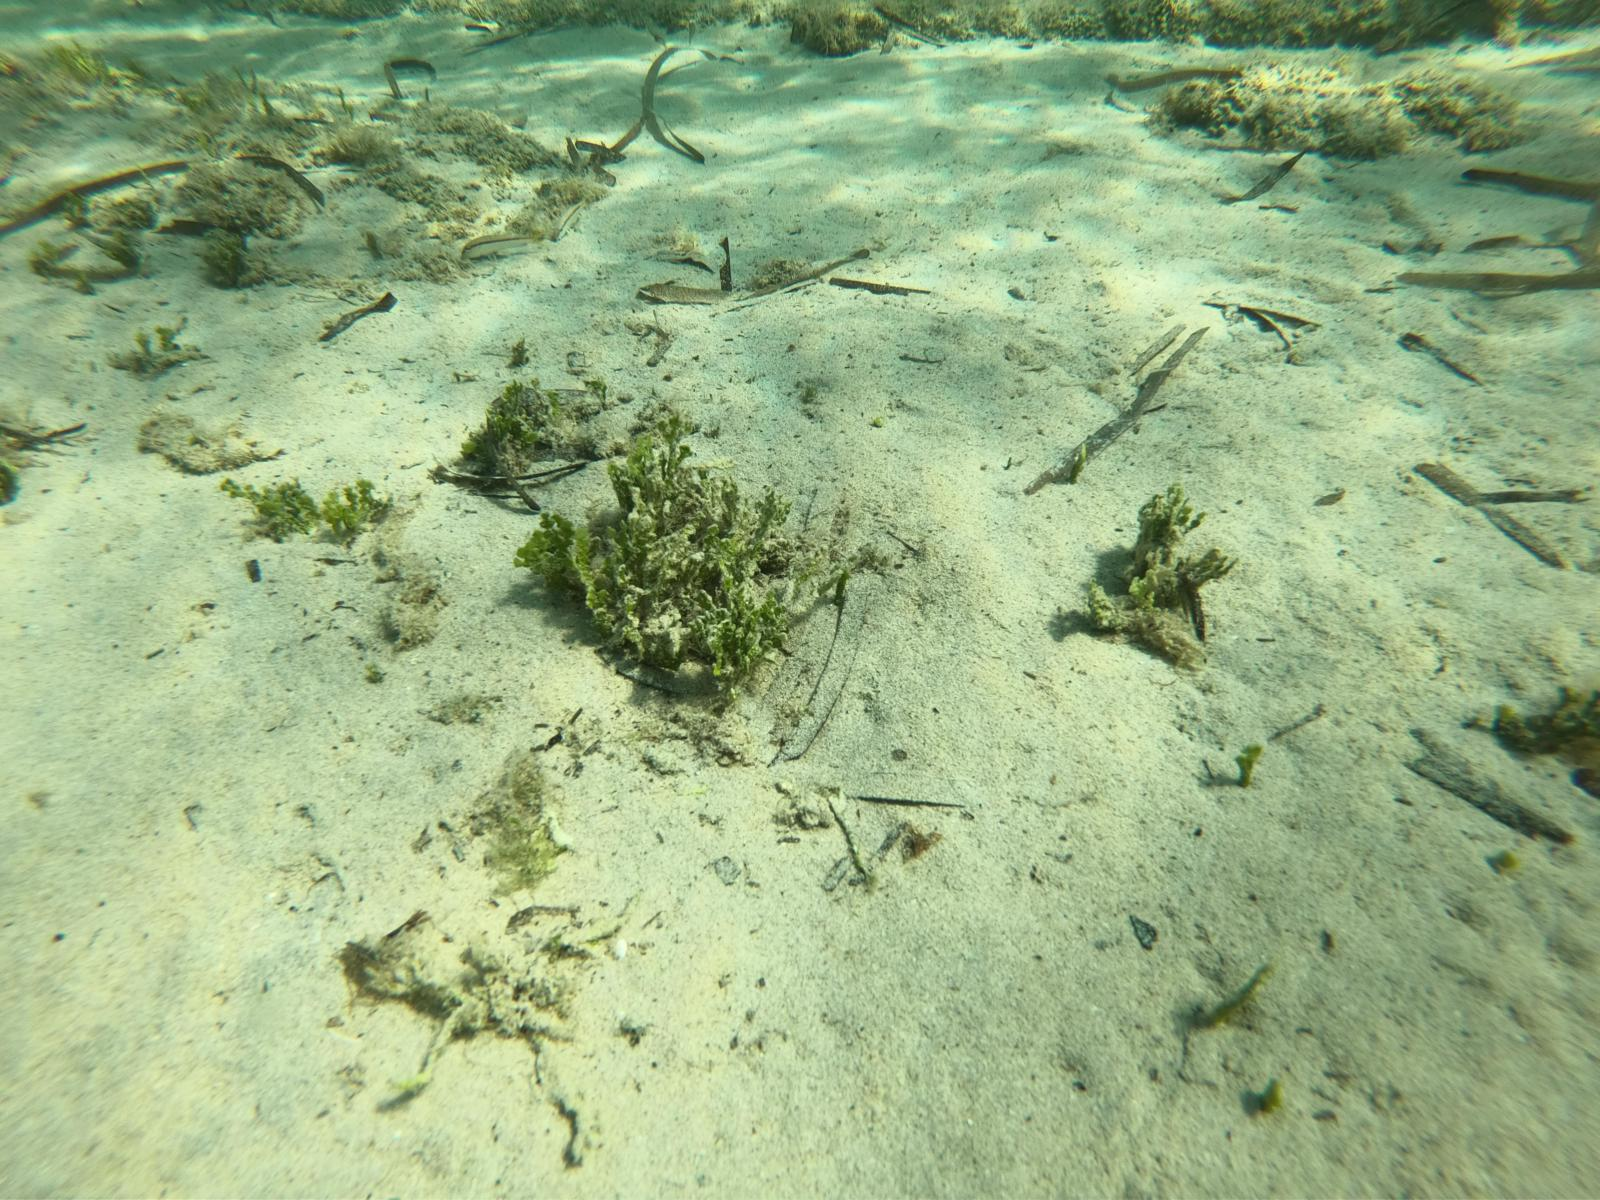halimeda: (568, 516, 677, 663), (1134, 493, 1238, 608), (687, 487, 791, 587), (700, 597, 790, 691), (607, 417, 693, 504), (471, 378, 556, 466), (220, 473, 319, 536), (517, 508, 577, 590), (207, 221, 263, 284), (320, 474, 375, 533), (1233, 742, 1261, 789)
